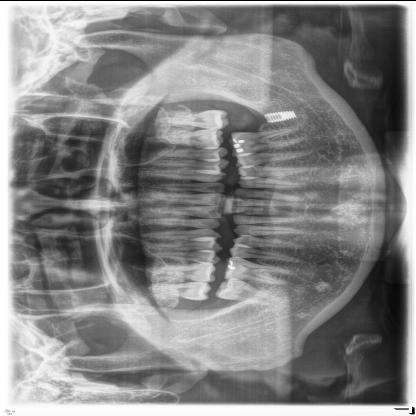Bicon: (260, 110, 300, 122)
